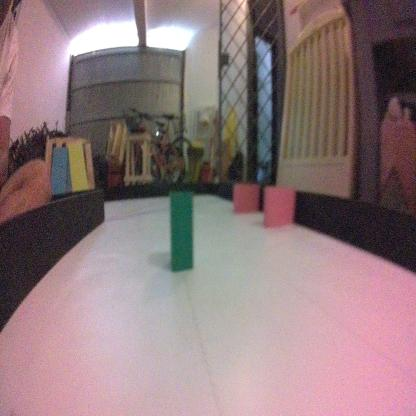green: (166, 185, 200, 275)
magenta: (262, 181, 294, 227), (232, 174, 260, 216)
